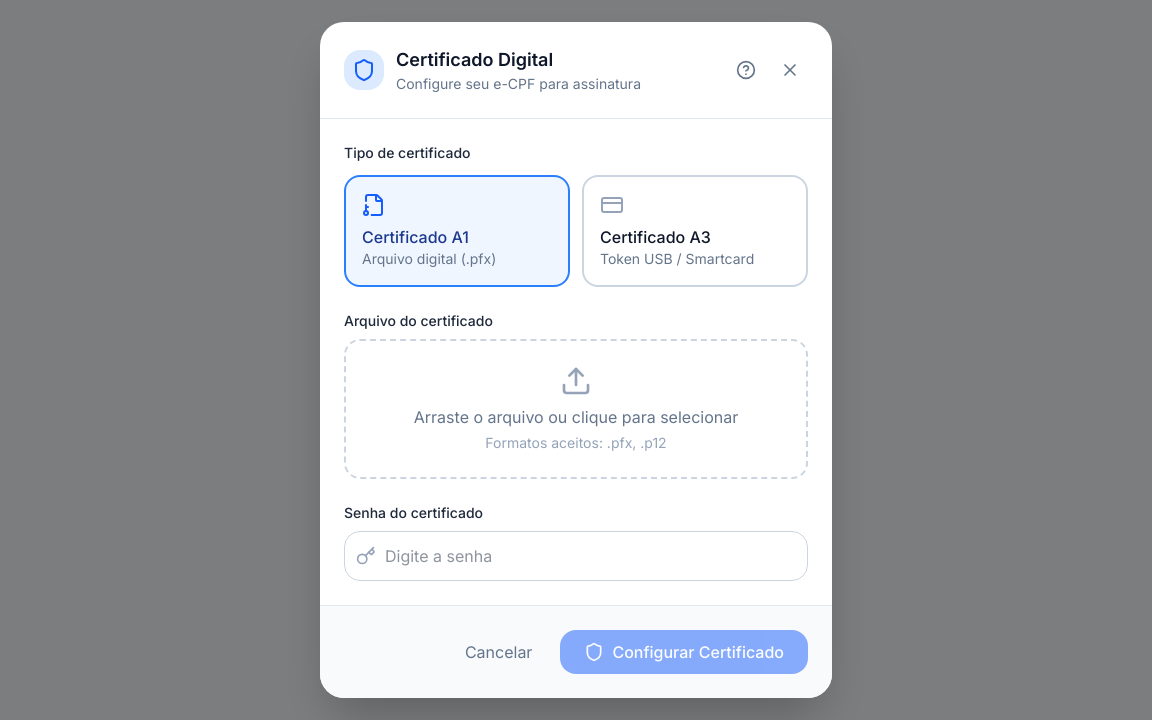
Test: CertificateSetup › certificate type selection › should switch to A3 type when clicked
The width and height of the screenshot is (1152, 720).
Click the text "Certificado A3" at (655, 237), box 600,227 -> 711,247
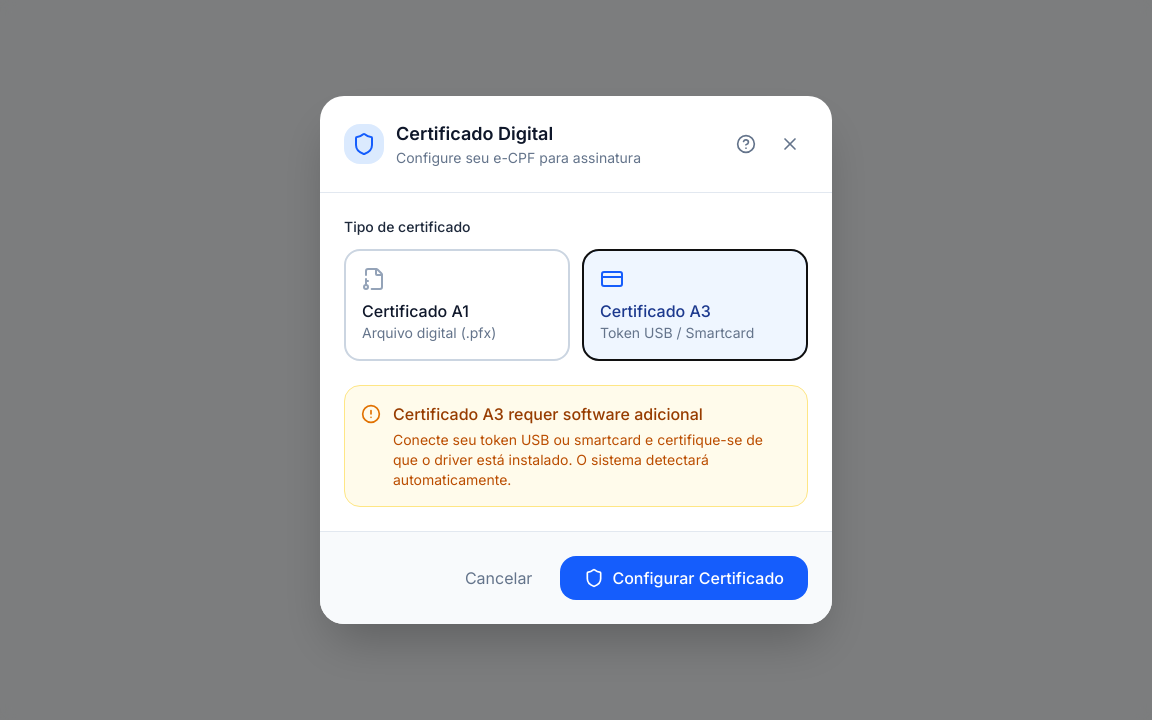
Check: the text "Token USB / Smartcard" is shown, box 600,324 -> 754,341
Check: the text "Certificado A3 requer software adicional" is shown, box 393,404 -> 703,424
